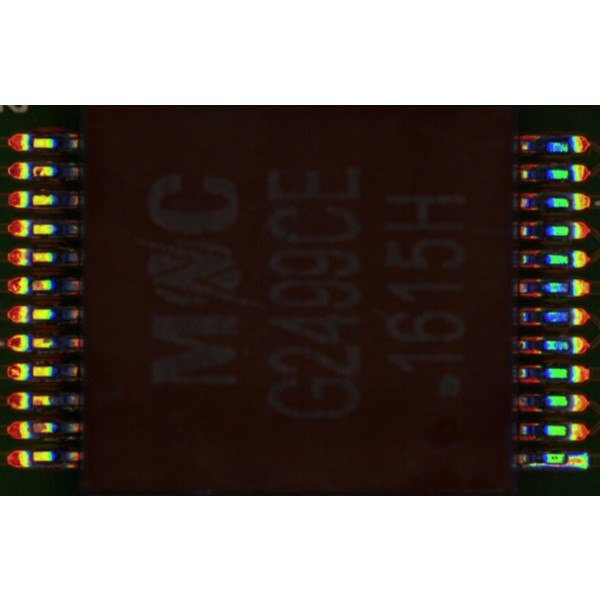Bad_podu: (559, 456, 576, 464)
Bad_qiaojiao: (527, 464, 566, 468)
